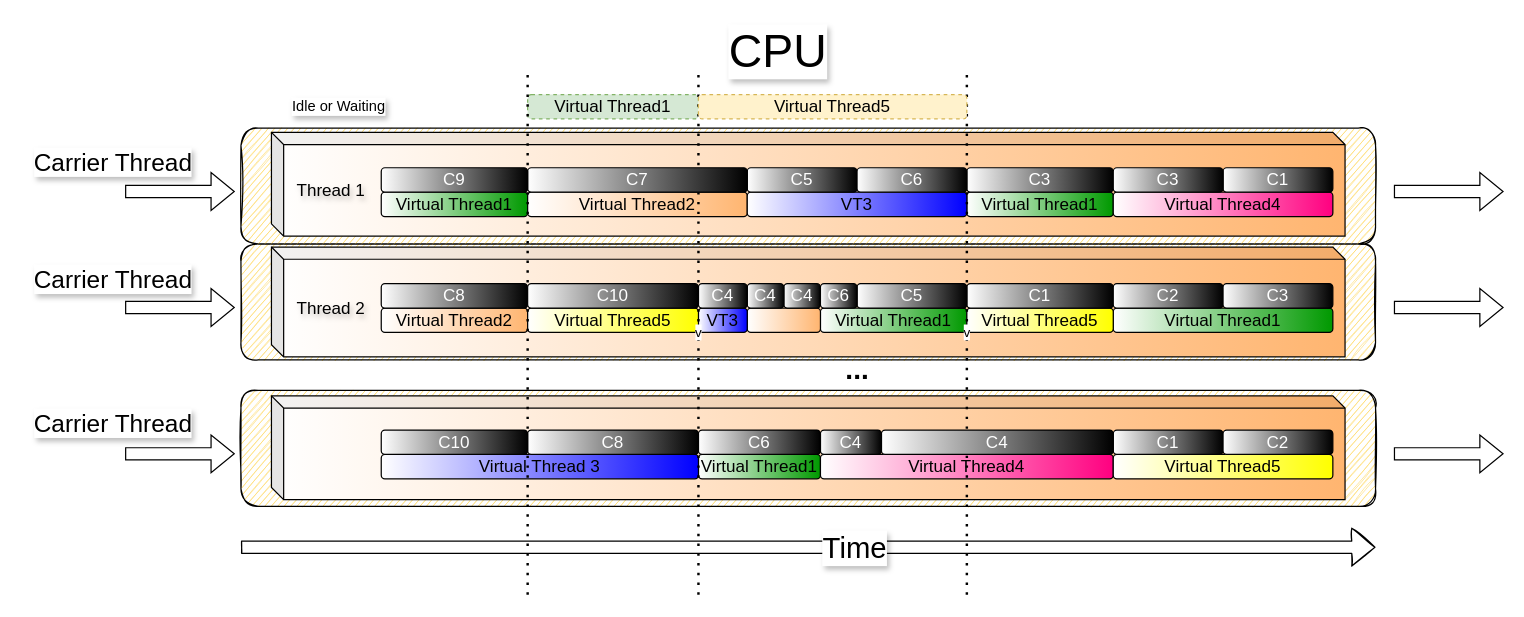
The diagram is 1524 pixels wide and 617 high, and some of its shapes have lost their labels. The box of each missing label's shape, as (x1, y1, x2, y2) in pixels:
Thread N: (270, 395, 1345, 500)
VT2: (746, 307, 820, 332)
